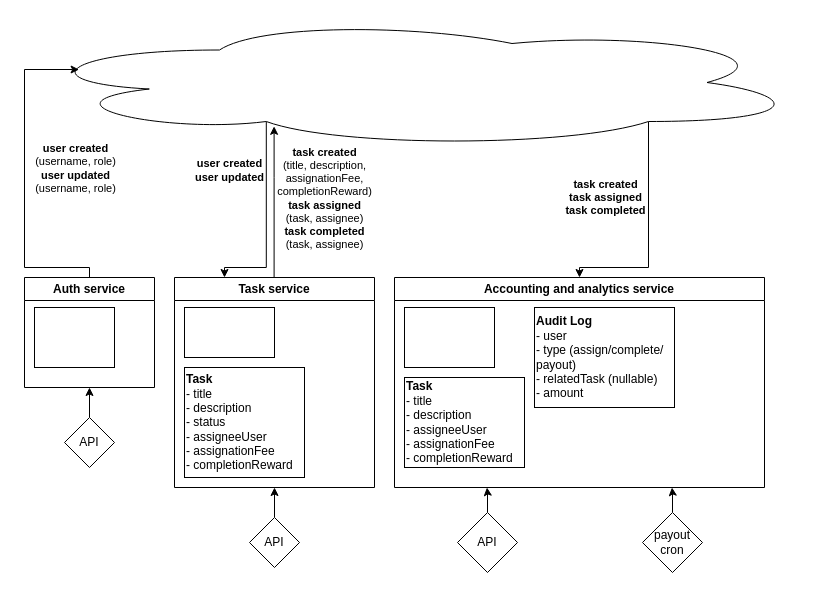
This 822x590 diagram has some shape labels left out. Each missing label, with the centre of its shape:
"Message broker" belongs at [414,82].
"User - username - password - role" belongs at [74,337].
"User - username - role" belongs at [229,332].
"User - username - role - balance?" belongs at [449,337].
